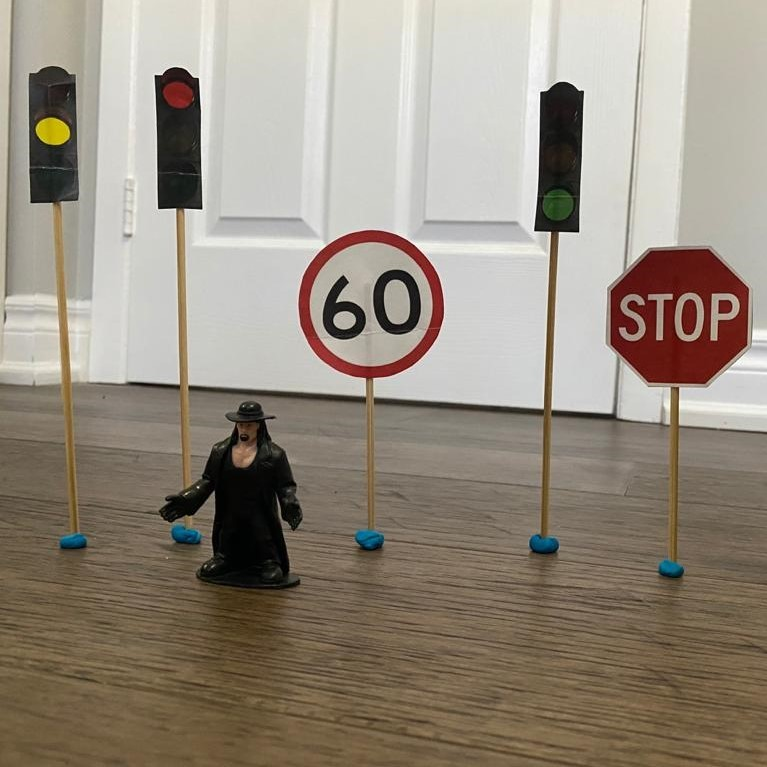Green Traffic Light: (529, 80, 592, 238)
Person: (157, 399, 307, 594)
Red Traffic Light: (148, 63, 207, 219)
Speed Limit 60: (296, 228, 447, 388)
Stop Sign: (604, 242, 753, 394)
Yellow Traffic Light: (22, 63, 82, 212)
